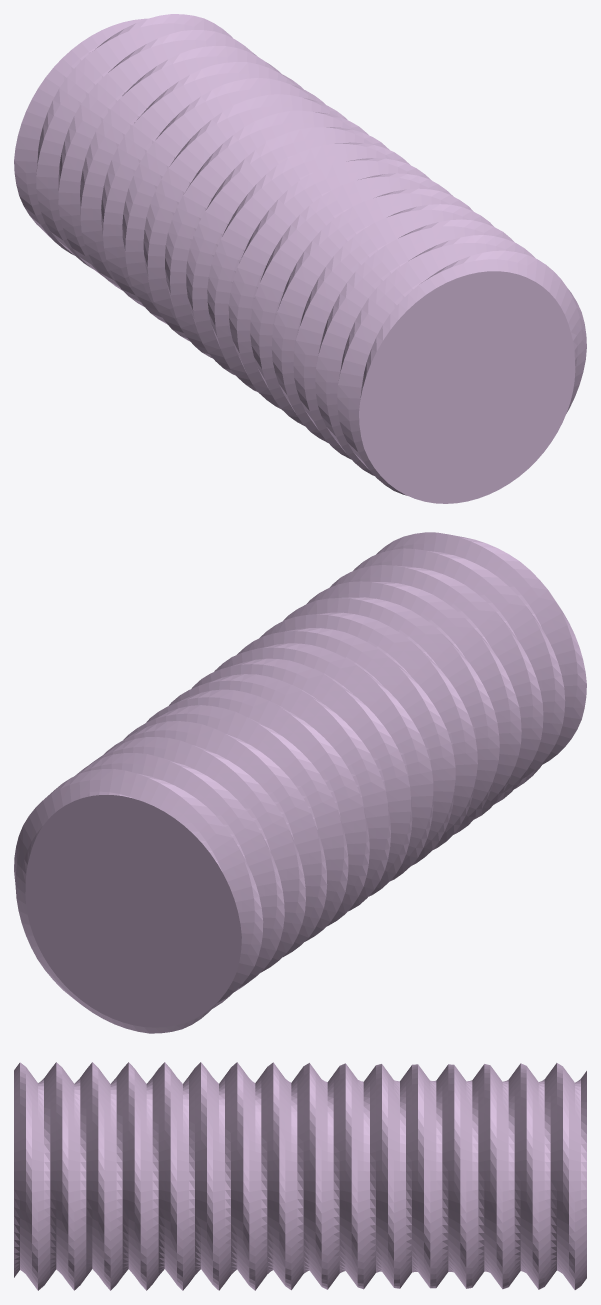
The model's file is threaded_rod_demo.glb.
3 renders of one model, top to bottom at view 1: azimuth 30°, elevation 25°; view 2: azimuth 150°, elevation 25°; view 3: azimuth 270°, elevation 25°, orthographic. The views are drawn at different scales.
Visible parts, largest first — view 1: m8_threaded_rod; view 2: m8_threaded_rod; view 3: m8_threaded_rod.
Boxes of the visible parts, x1,y1,x2,y2 form: m8_threaded_rod: (14, 14, 586, 503); m8_threaded_rod: (14, 532, 586, 1033); m8_threaded_rod: (14, 1062, 586, 1290).
Bounding box in the file's own units: 8 × 8 × 20.
